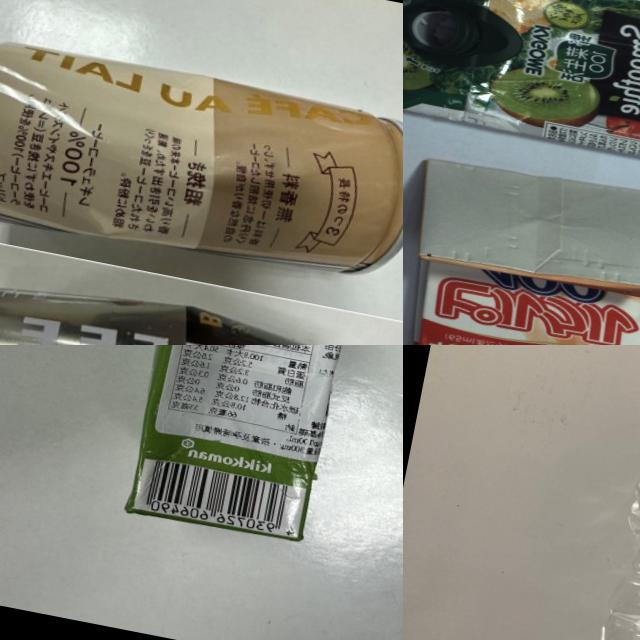Aluminium Foil: (403, 0, 640, 227), (128, 345, 388, 548), (403, 145, 640, 345)
Can: (0, 28, 403, 299), (0, 252, 385, 345)
Transparent Plastic Bottle: (549, 351, 640, 640)
